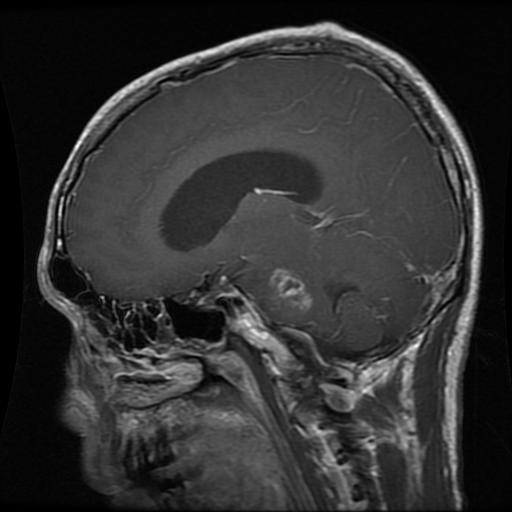Gliomia_tumour: (268, 271, 311, 313)
